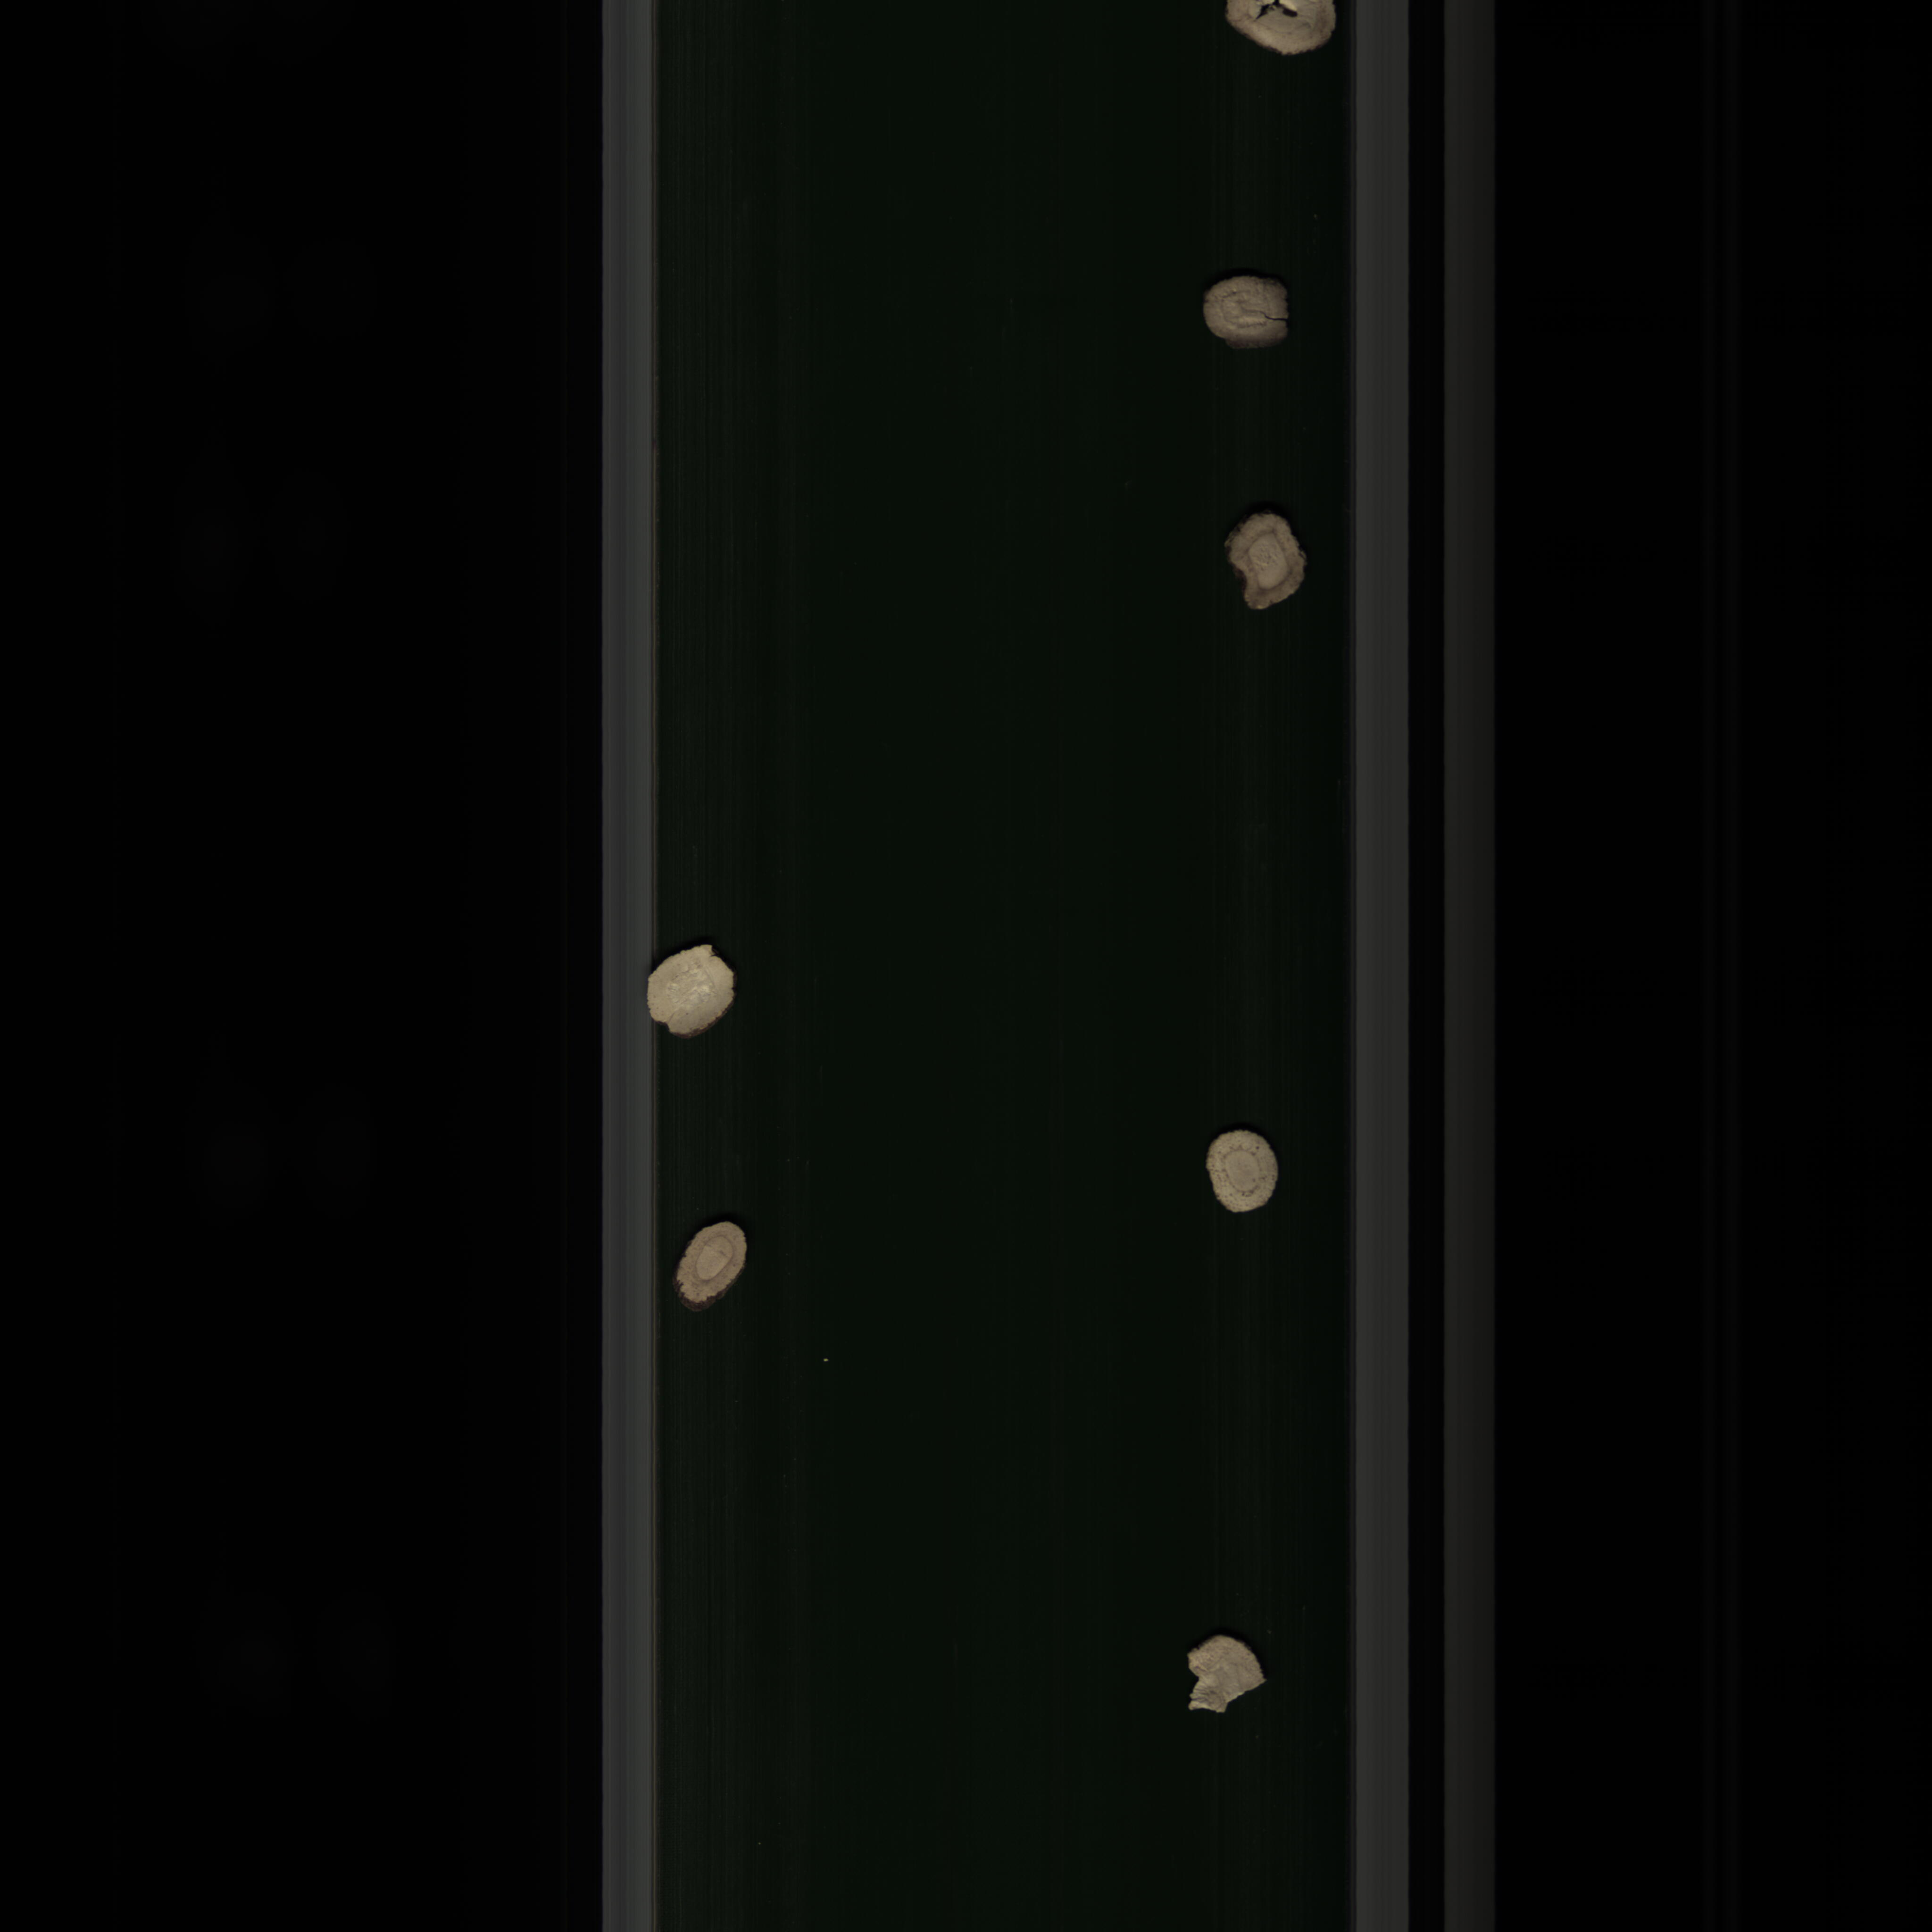debris: (637, 945, 747, 1046), (1177, 1635, 1272, 1723)
hole: (1214, 0, 1346, 60)
moldy: (1184, 274, 1295, 357)
